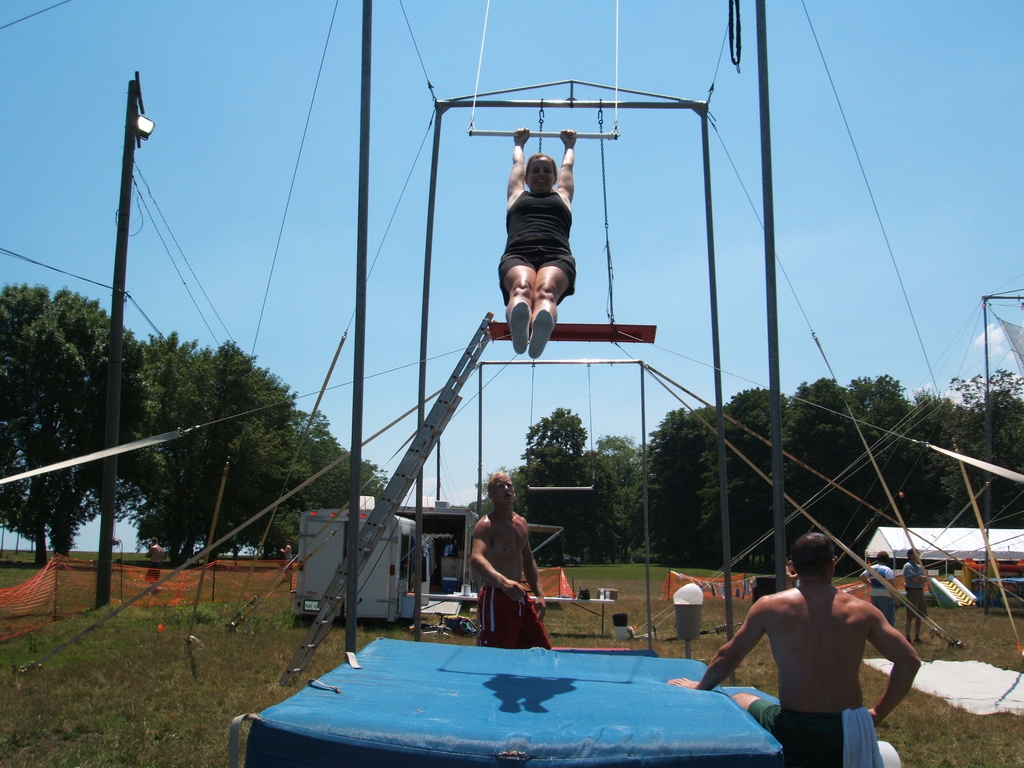Person: (497, 126, 576, 359), (904, 548, 932, 644)
